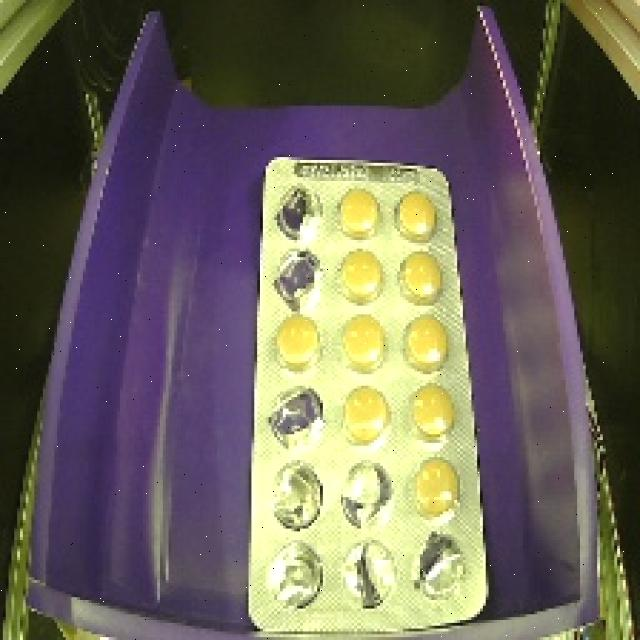med_plate: (228, 135, 492, 640)
